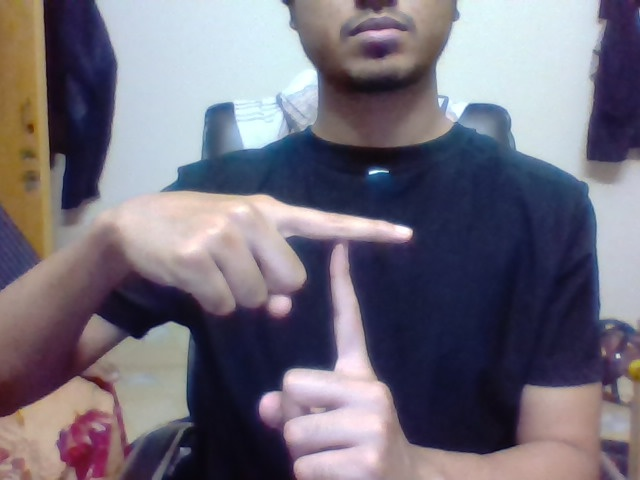T: (308, 203, 418, 368)
